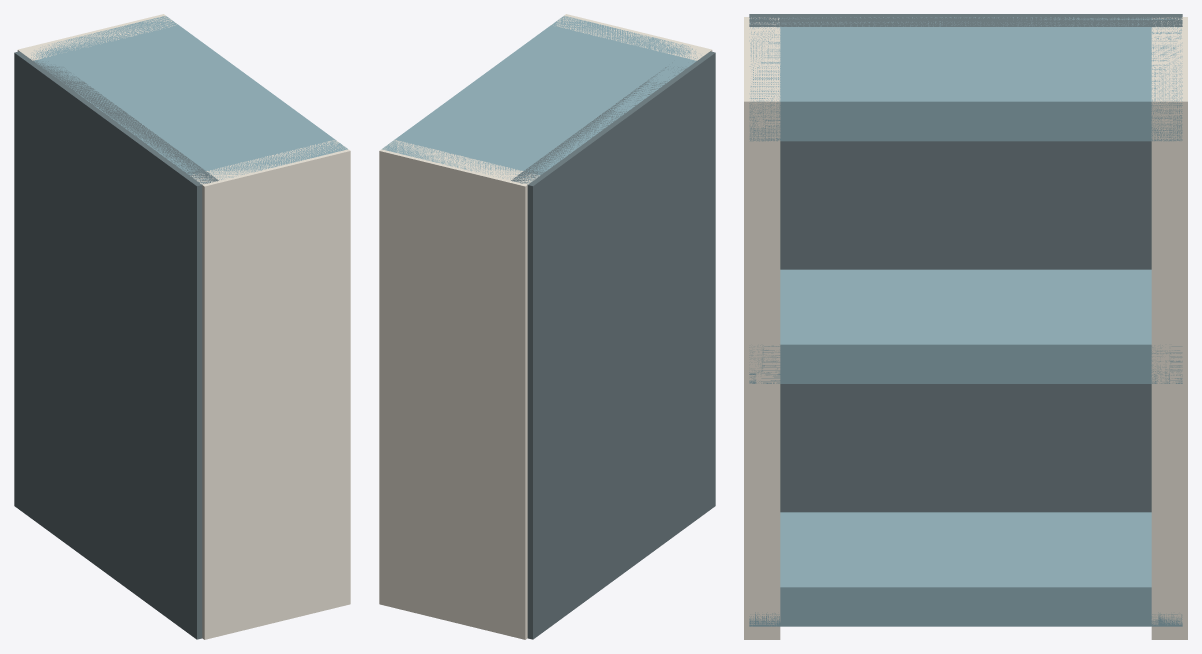
File: prop_tool_rack_v4_ShadowProxy.glb
3 renders of one model, left to right at view 1: azimuth 30°, elevation 25°; view 2: azimuth 150°, elevation 25°; view 3: azimuth 270°, elevation 25°, orthographic. The views are drawn at different scales.
Visible parts, largest first — view 1: prop_tool_rack_v4_ShadowProxy / Primary assembly; view 2: prop_tool_rack_v4_ShadowProxy / Primary assembly; view 3: prop_tool_rack_v4_ShadowProxy / Primary assembly.
Part boxes in pixels (x1,y1,x2,y2): prop_tool_rack_v4_ShadowProxy / Primary assembly: (14,14,350,639); prop_tool_rack_v4_ShadowProxy / Primary assembly: (379,14,715,639); prop_tool_rack_v4_ShadowProxy / Primary assembly: (744,14,1187,639).
Size of the model in its own units: 0.5705 by 1.63 by 1.22.
